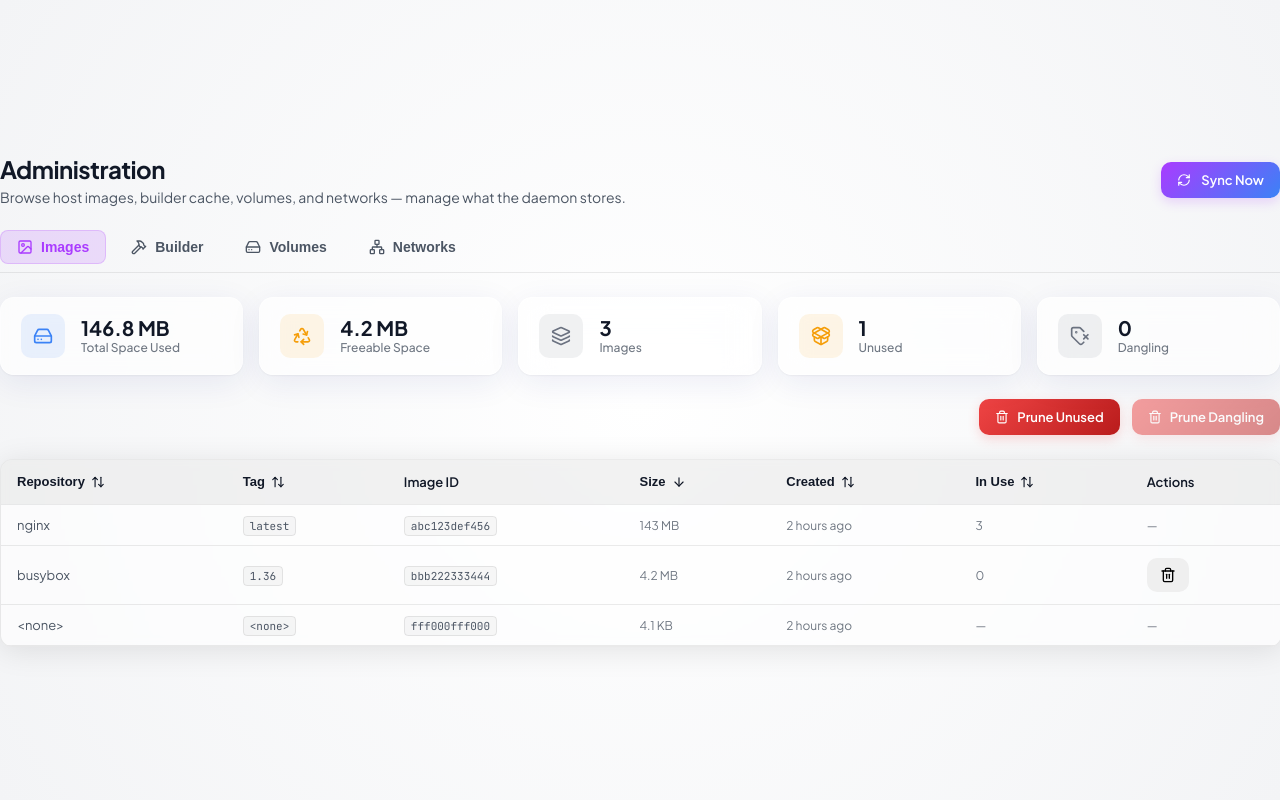
Test case: Administration Component › confirms deletion through the dialog, then refreshes
Expected: the text "busybox" is shown, [17,566,70,582]
Clicking the trash opens a danger dialog naming the image.
Step 1. Click the button titled "Delete image" → point(1168, 574), box [1147,558,1189,592]
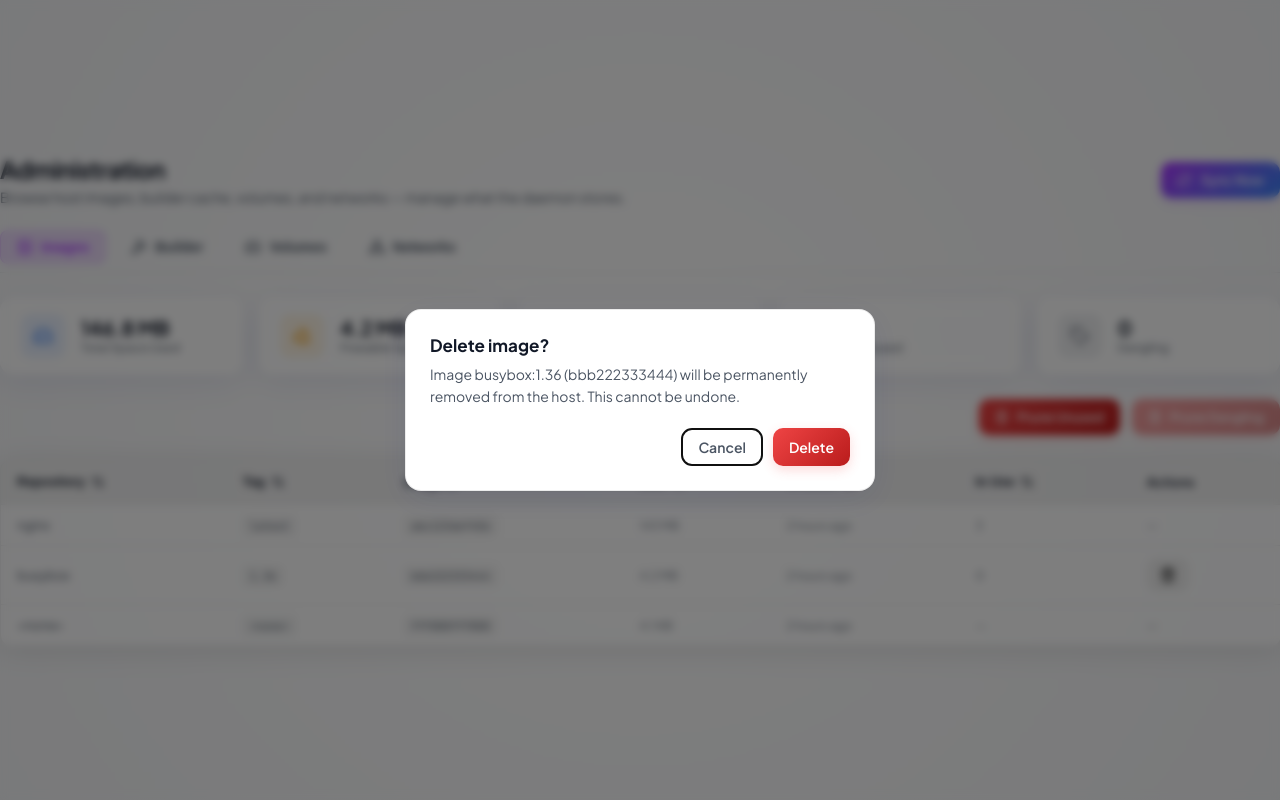
Confirming dispatches with force and triggers a list re-fetch.
Step 2. Click the button "Delete" → point(811, 447), box [773,428,850,466]
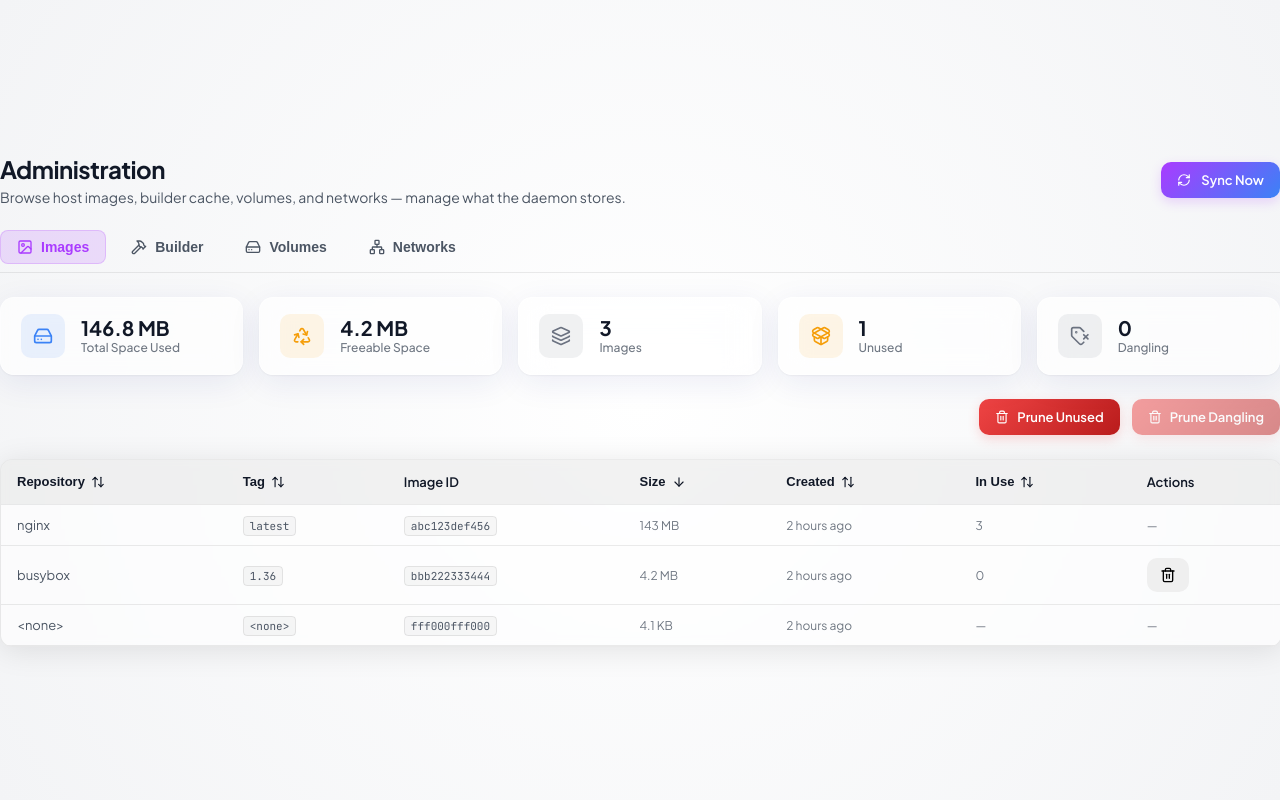
Now the dialog is gone
